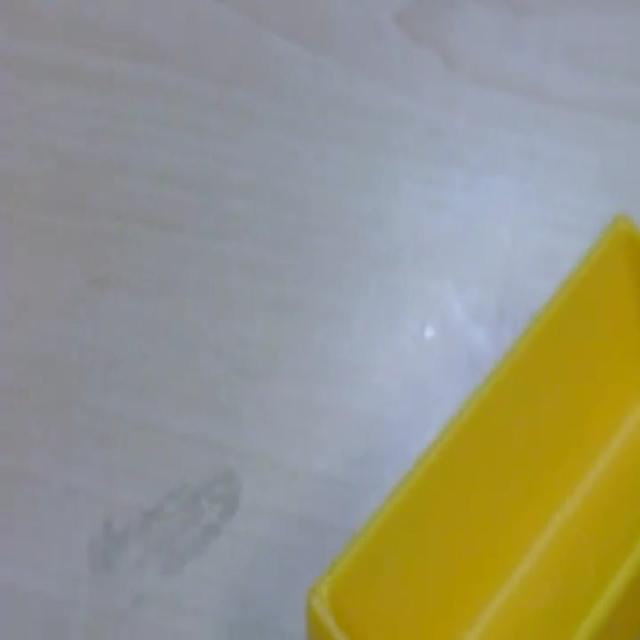yellow_block: (304, 210, 638, 638)
